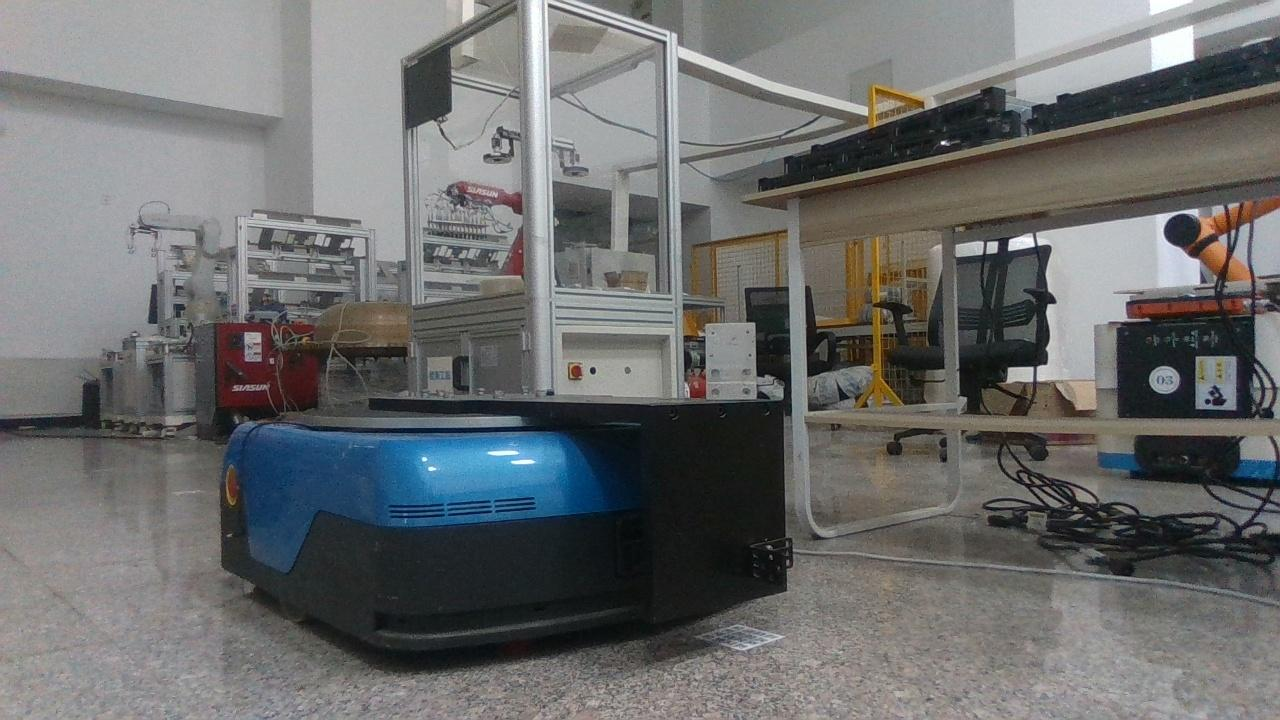AGV: (218, 397, 793, 650)
